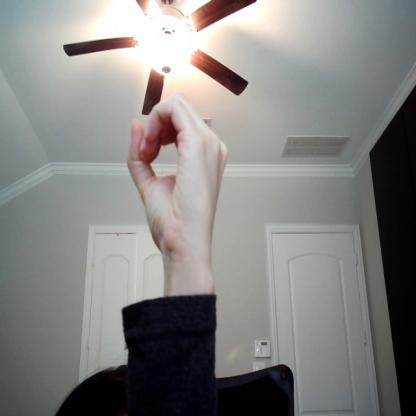zero: (121, 96, 235, 246)
